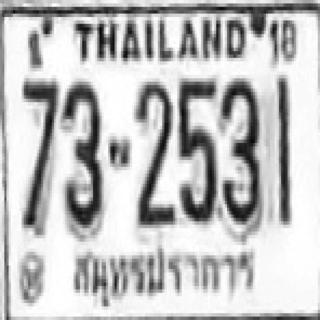N01: (276, 73, 291, 223)
N02: (135, 80, 172, 223)
N03: (218, 75, 260, 221), (61, 78, 100, 228)
N05: (177, 76, 214, 220)
N07: (21, 77, 57, 230), (21, 78, 57, 177)
P57: (67, 237, 263, 306)
